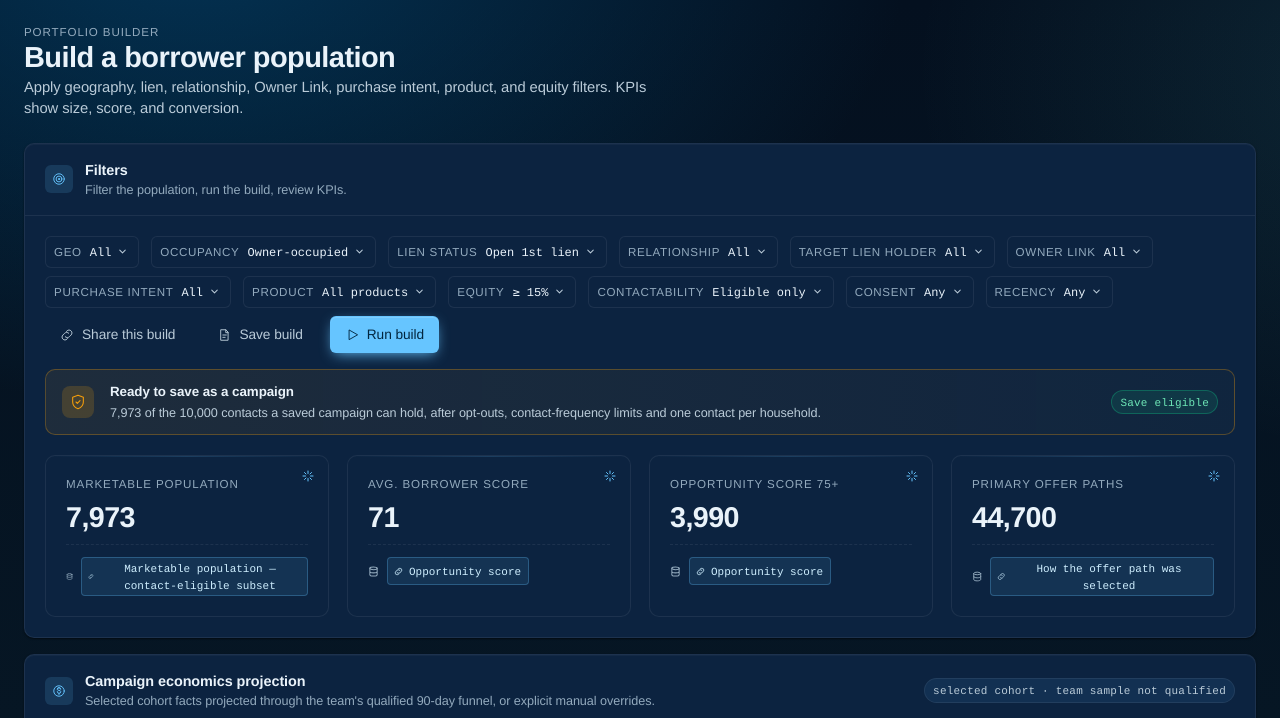
Test case: PortfolioBuilder save-build flow › words a 403 save refusal so the next step is clear
Click the button with test id "portfolio-save-build": (260, 335) [202, 316, 318, 353]
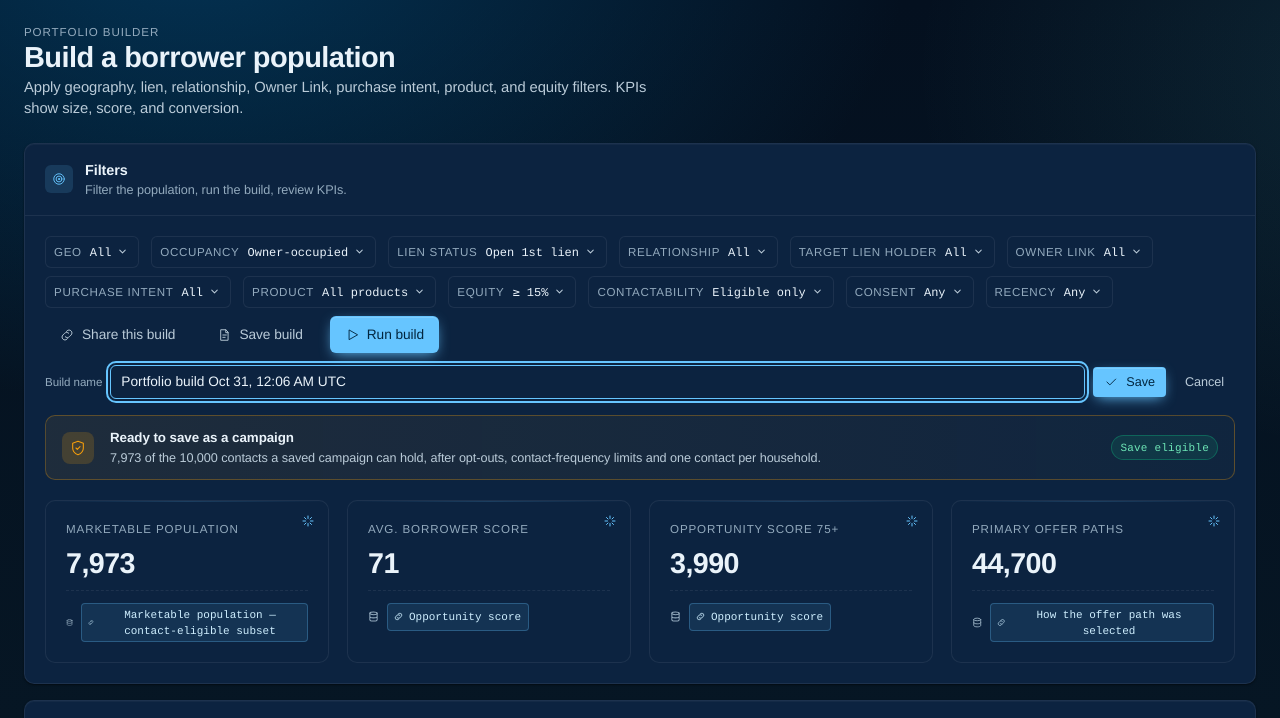
Click the button with test id "portfolio-save-confirm": (1130, 382) [1093, 367, 1166, 397]
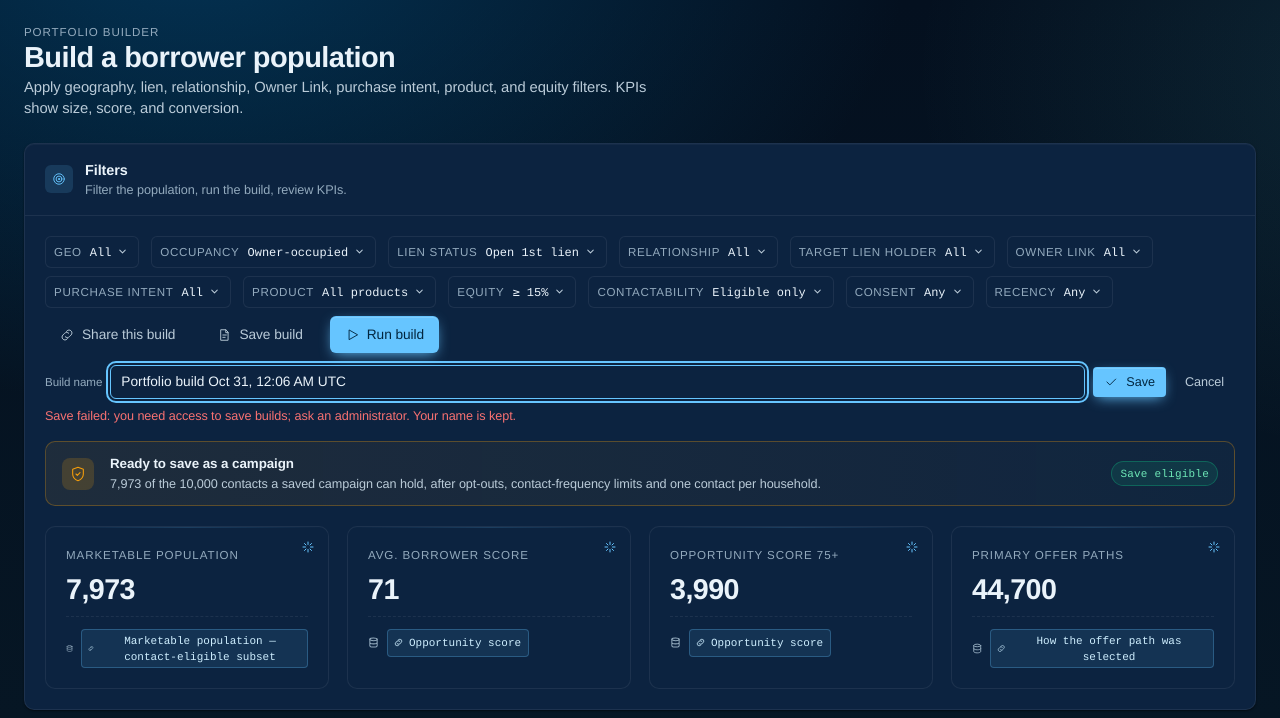
Expected: the field with test id "portfolio-save-name" is shown, [110, 365, 1085, 399]
Expected: the 1st message shows "Save failed: you need access to save builds; ask an administrator. Your name is kept.", [45, 408, 516, 424]
